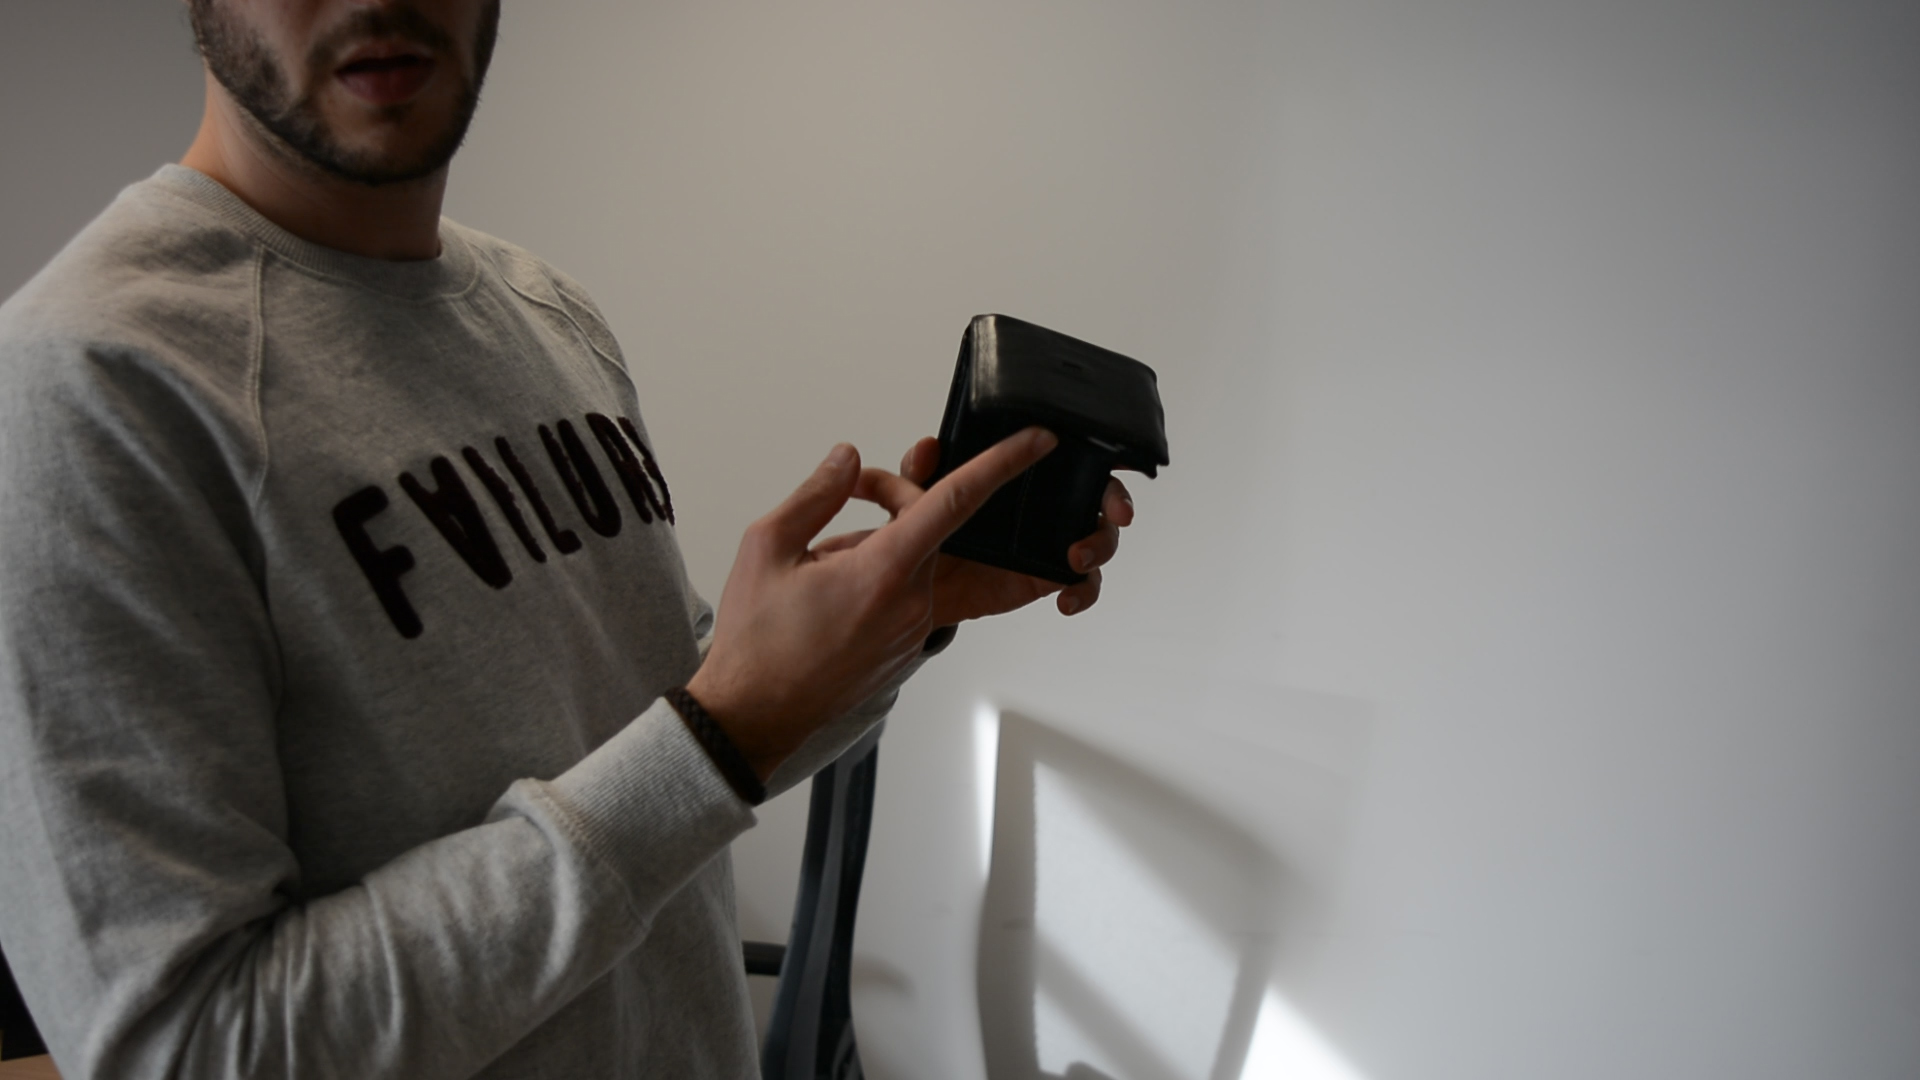monedero: (916, 313, 1175, 591)
